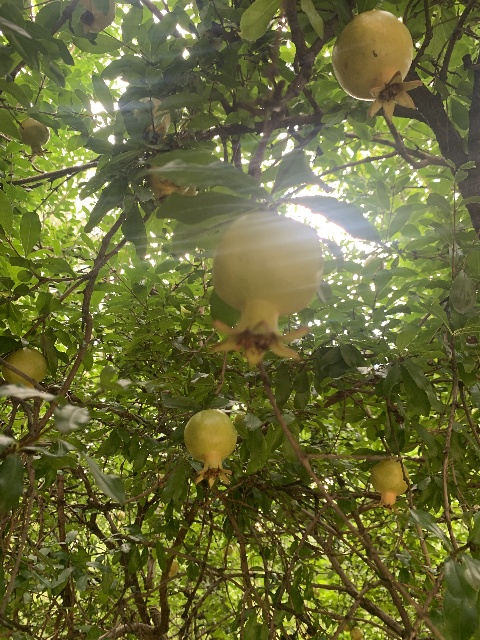mid-growth: (205, 211, 323, 366), (332, 9, 422, 121), (183, 408, 236, 488), (369, 460, 409, 513), (1, 347, 47, 388), (131, 96, 171, 142), (146, 165, 189, 203), (18, 117, 52, 157), (77, 0, 115, 34)
